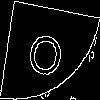O: (25, 25, 67, 78)
